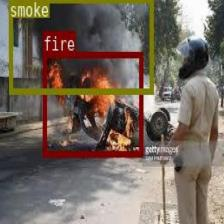fire: (42, 52, 142, 156)
smoke: (8, 0, 153, 93)
